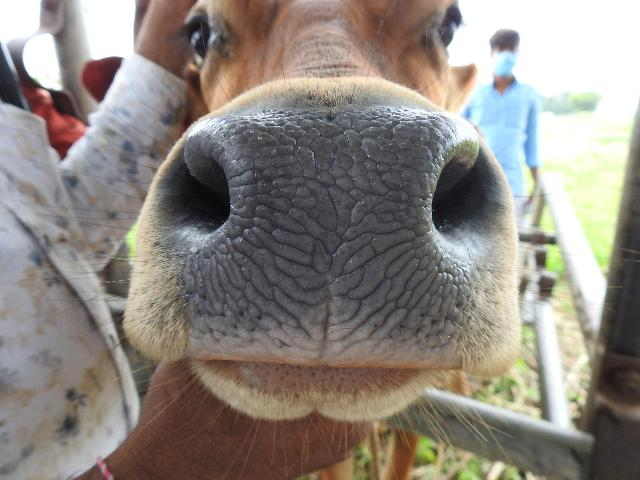Muzzle: (203, 123, 457, 356)
